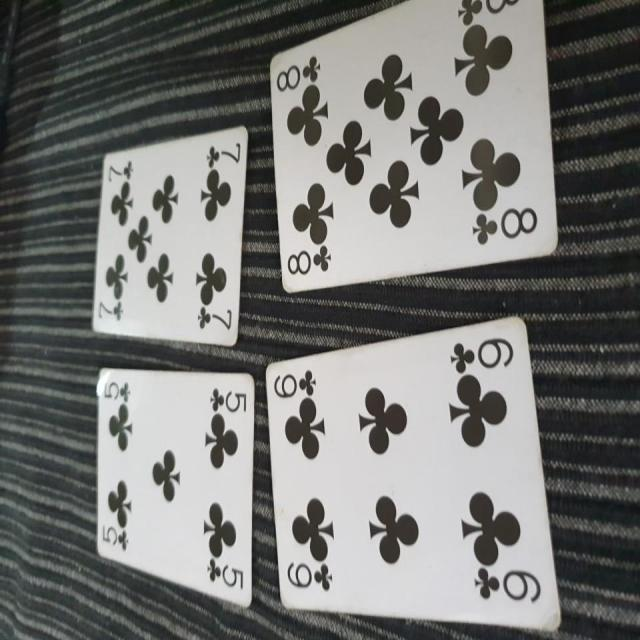5 Trefoils: (93, 365, 257, 610)
6 Trefoils: (262, 316, 563, 634)
7 Trefoils: (91, 122, 248, 346)
8 Trefoils: (268, 1, 560, 295)
